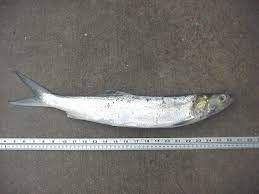Tenpounder: (10, 65, 238, 134)
